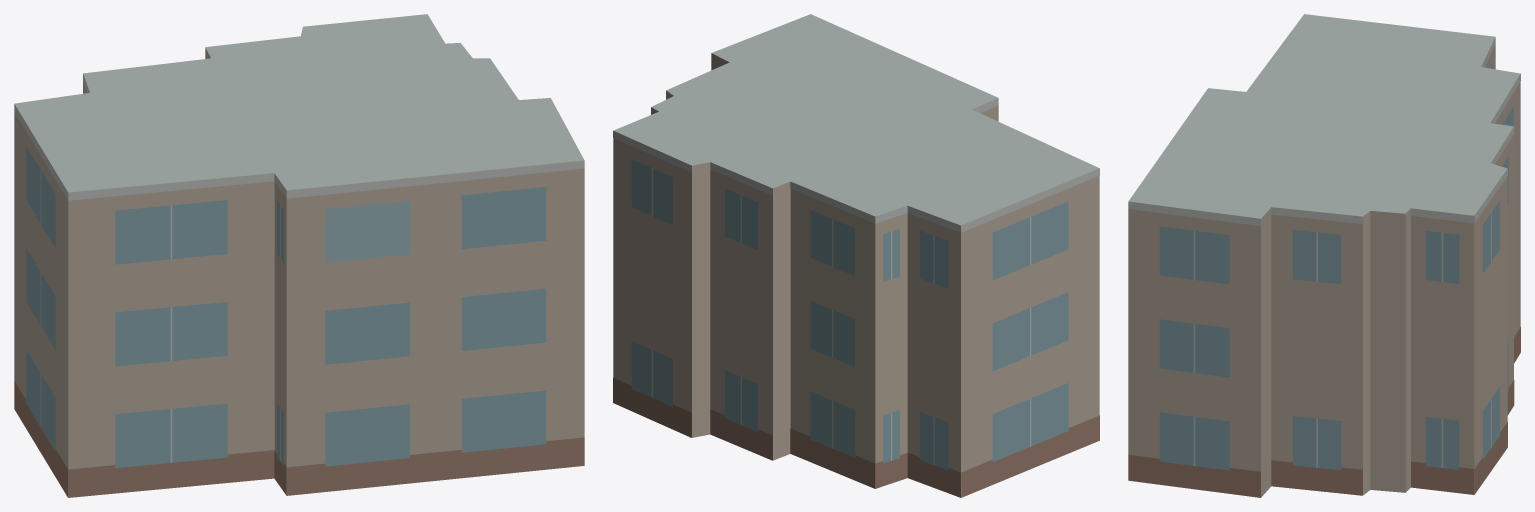
File: survey-upis-32667878.glb
3 views of the same model, side by side, from view 1: azimuth 30°, elevation 25°; view 2: azimuth 150°, elevation 25°; view 3: azimuth 270°, elevation 25° (orthographic). The views are drawn at different scales.
Parts seen in each view (by area): view 1: survey-upis-32667878.tmp; view 2: survey-upis-32667878.tmp; view 3: survey-upis-32667878.tmp.
Part boxes in pixels (bbox=[...]): survey-upis-32667878.tmp: bbox=[14, 14, 584, 497]; survey-upis-32667878.tmp: bbox=[613, 14, 1099, 497]; survey-upis-32667878.tmp: bbox=[1128, 14, 1520, 497].
Size of the model in its own units: 14.4 by 9.15 by 11.67.
